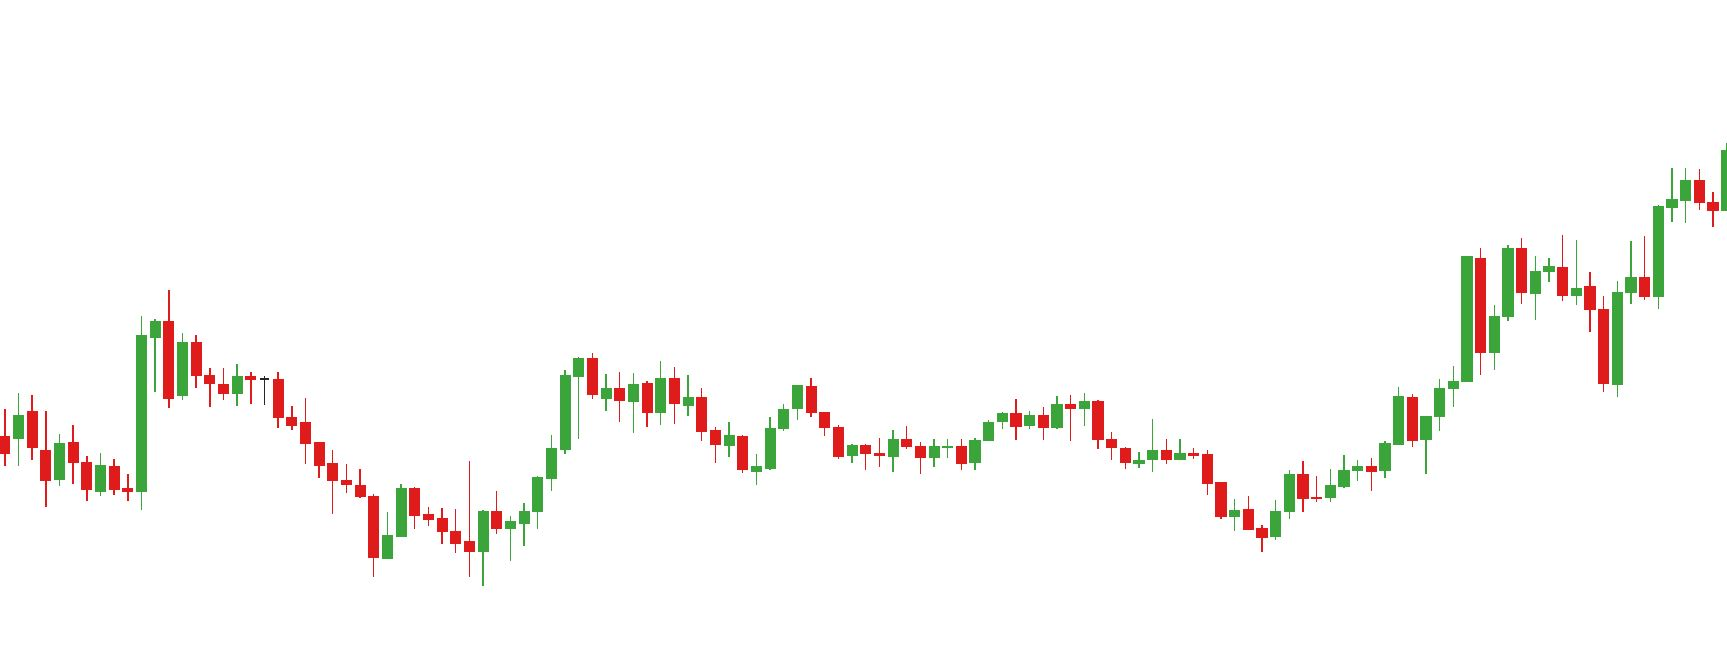buy: (1471, 277, 1623, 400), (368, 509, 487, 589)
